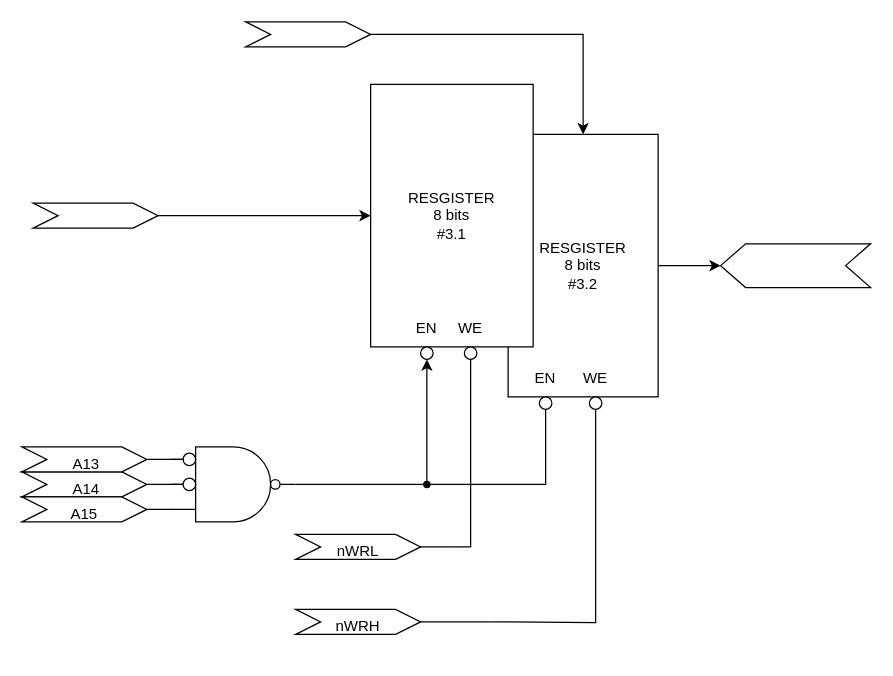
The diagram is 893 pixels wide and 676 high, and some of its shapes have lost their labels. The centre of each missing label's shape, as x and y in pixels:
D0...7: pixel 95 215
D8...15: pixel 307 34
OUTPUT: pixel 795 265
